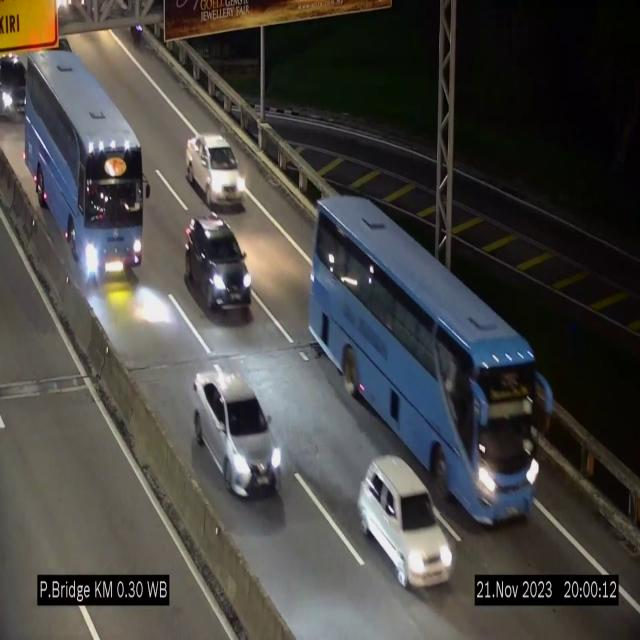Bus: (304, 190, 556, 526), (22, 47, 144, 280)
Car: (358, 457, 453, 587), (193, 370, 285, 495), (184, 215, 251, 312), (185, 134, 246, 208), (0, 42, 38, 136)
